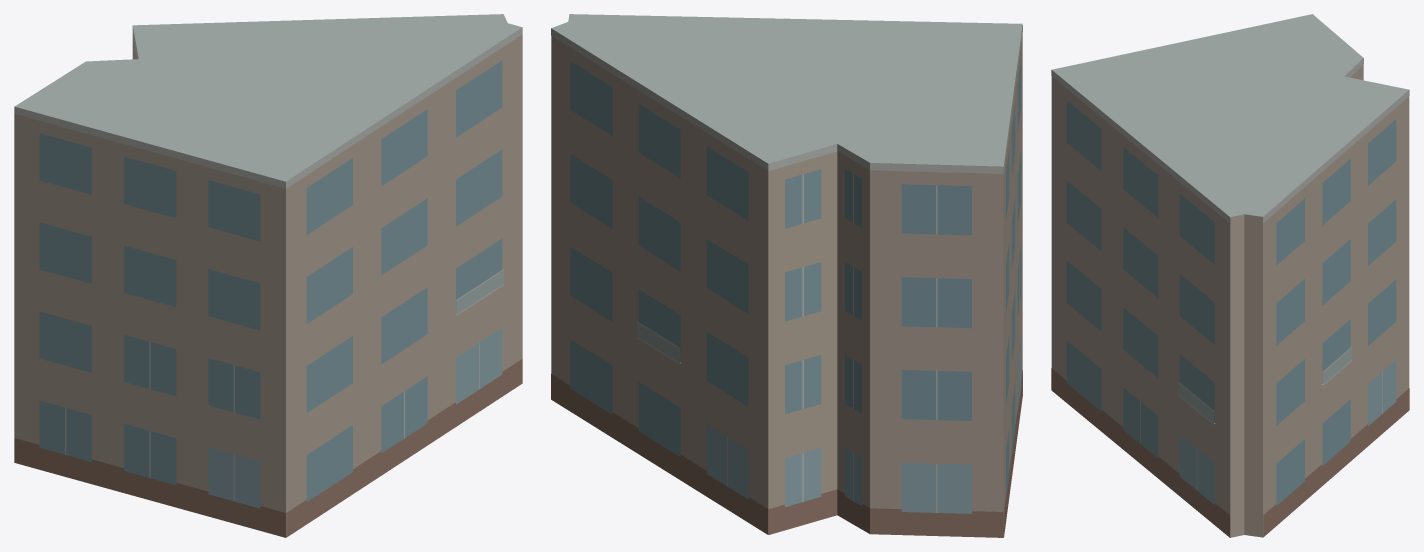
The model's file is survey-upis-32746794.glb.
The picture shows the model from 3 angles, left to right: view 1: azimuth 30°, elevation 25°; view 2: azimuth 150°, elevation 25°; view 3: azimuth 270°, elevation 25°; orthographic projection. The views are drawn at different scales.
Visible parts, largest first — view 1: survey-upis-32746794.tmp; view 2: survey-upis-32746794.tmp; view 3: survey-upis-32746794.tmp.
Boxes of the visible parts, <box> form: survey-upis-32746794.tmp: <box>14,14,522,537</box>; survey-upis-32746794.tmp: <box>551,14,1022,537</box>; survey-upis-32746794.tmp: <box>1051,14,1409,537</box>.
Size of the model in its own units: 16.58 by 12.2 by 12.34.
